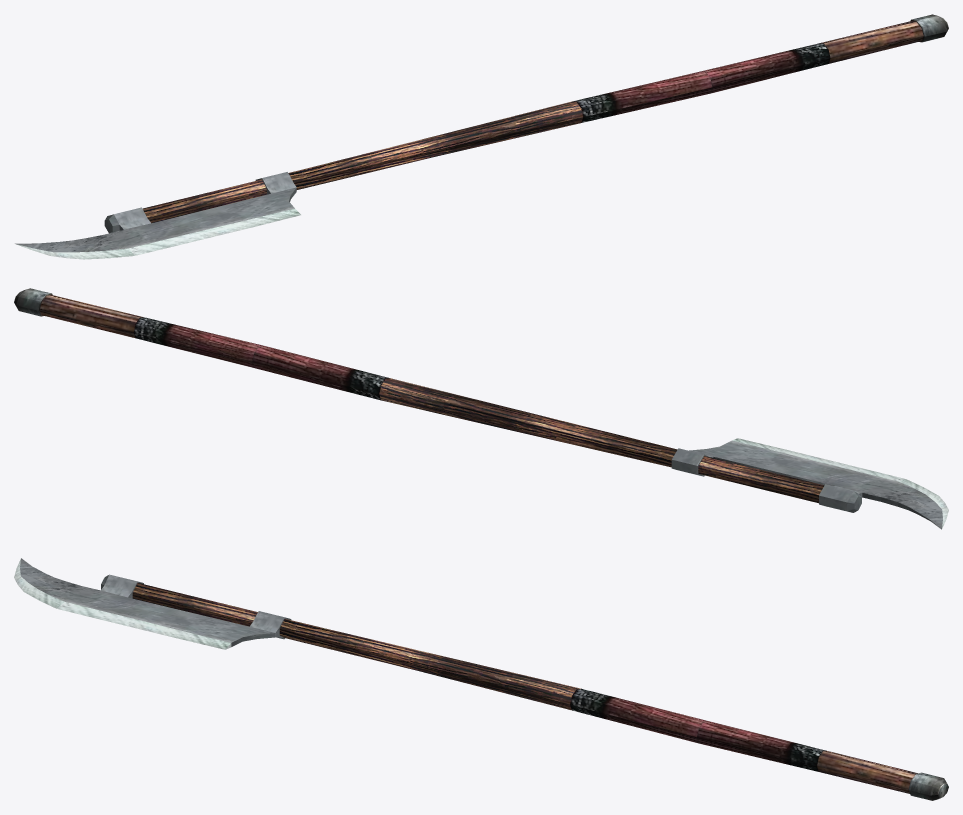
File: ITMW_2H_SPEAR_11.glb
3 views of the same model, one above another, from view 1: azimuth 30°, elevation 25°; view 2: azimuth 150°, elevation 25°; view 3: azimuth 330°, elevation 25° (orthographic).
Parts seen in each view (by area): view 1: ITMW_2H_SPEAR_11; view 2: ITMW_2H_SPEAR_11; view 3: ITMW_2H_SPEAR_11.
Part boxes in pixels (left/top/right/bottom): ITMW_2H_SPEAR_11: left=15, top=14, right=948, bottom=259; ITMW_2H_SPEAR_11: left=14, top=288, right=948, bottom=529; ITMW_2H_SPEAR_11: left=14, top=558, right=948, bottom=800.
Bounding box in the file's own units: 1.93 × 0.0451 × 0.1602.
4 materials, 4 textured.
